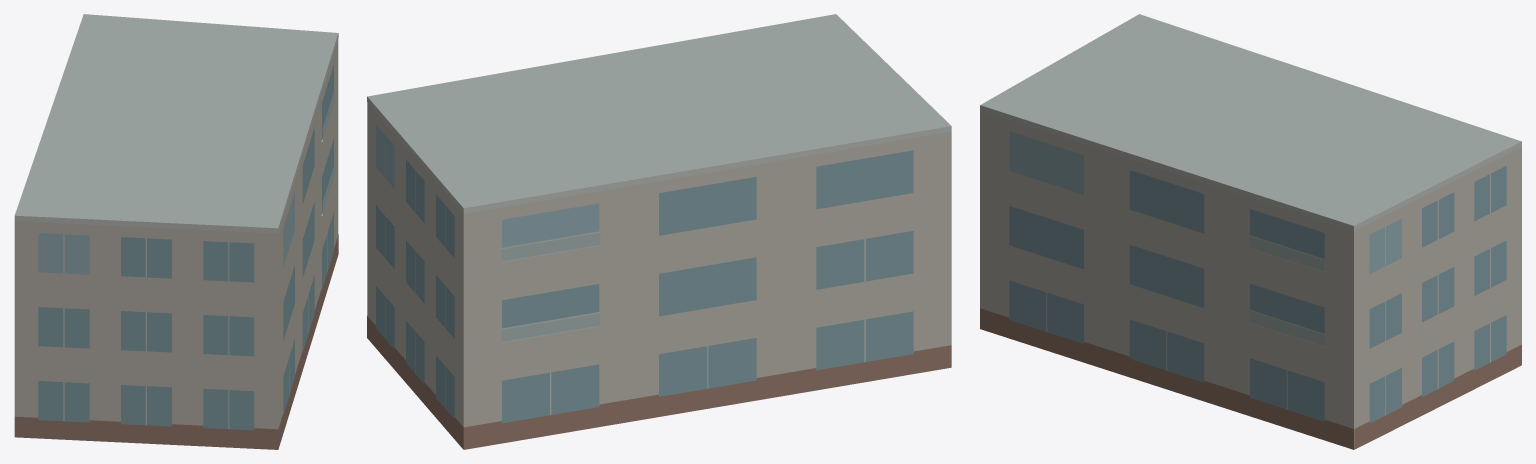
Rendered from survey-upis-32863077.glb.
3 views of the same model, side by side, from view 1: azimuth 30°, elevation 25°; view 2: azimuth 150°, elevation 25°; view 3: azimuth 270°, elevation 25° (orthographic). The views are drawn at different scales.
Parts seen in each view (by area): view 1: survey-upis-32863077.tmp; view 2: survey-upis-32863077.tmp; view 3: survey-upis-32863077.tmp.
Part boxes in pixels (<box>): survey-upis-32863077.tmp: <box>14,14,338,449</box>; survey-upis-32863077.tmp: <box>367,14,951,449</box>; survey-upis-32863077.tmp: <box>980,14,1521,449</box>.
Size of the model in its own units: 21.13 by 10.4 by 22.82.
